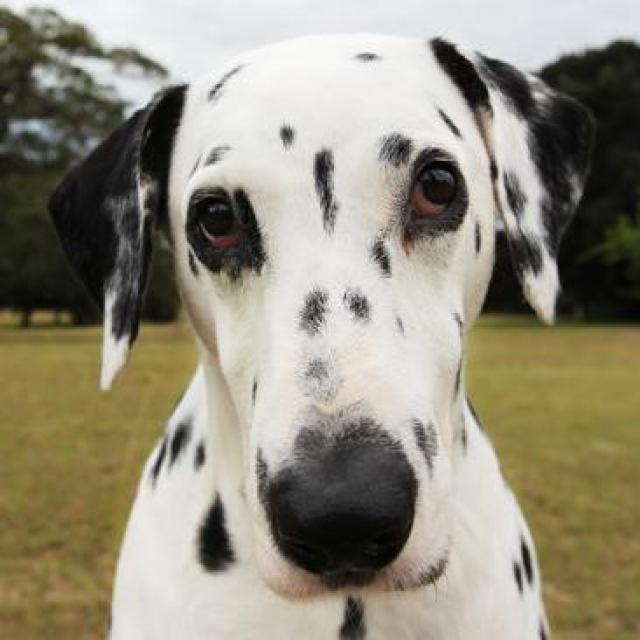eye: (402, 155, 467, 225), (186, 191, 252, 256)
